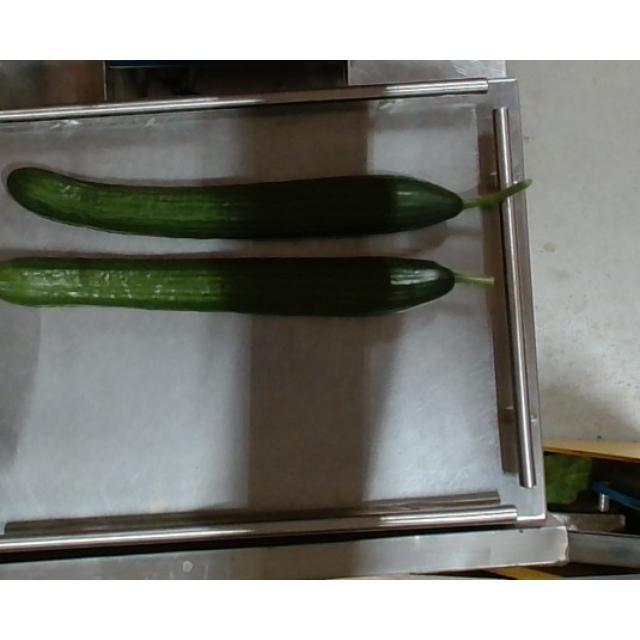cucumber: (8, 160, 532, 240), (1, 254, 502, 322)
